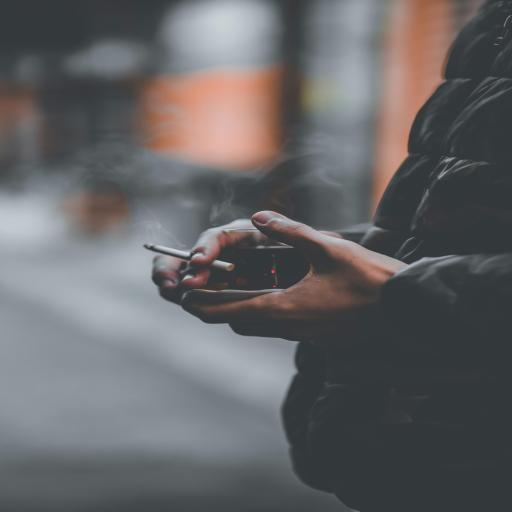pegang rokok: (119, 183, 242, 306)
